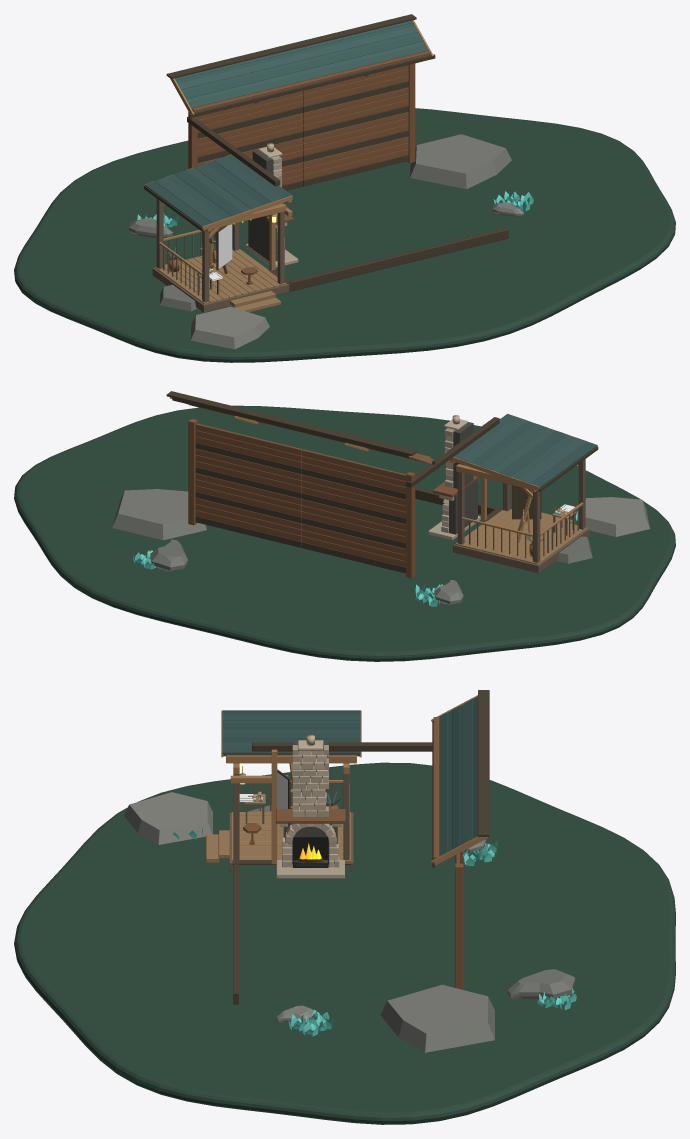
Rendered from midnight-cabin-world-7e.glb.
3 views of the same model, one above another, from view 1: azimuth 30°, elevation 25°; view 2: azimuth 150°, elevation 25°; view 3: azimuth 270°, elevation 25° (orthographic). The views are drawn at different scales.
Parts seen in each view (by area): view 1: ForestGround.015, BackWall.003, RoofShingles.002, PorchRoofShingles.002, RoofTrim.002, PorchBoards.002, FloorFascia.003, PorchPosts.002, LeftWallFrame.003, Fireplace.015, PorchRails.002, ArtEasel.015 (+5 smaller); view 2: ForestGround.015, BackWall.003, PorchRoofShingles.002, PorchBoards.002, RoofTrim.002, PorchPosts.002, Fireplace.015, PorchRails.002, LeftWallFrame.003, Chimney.002, PorchFascia.002, ArtEasel.015 (+3 smaller); view 3: ForestGround.015, RoofShingles.002, PorchRoofShingles.002, RoofTrim.002, Fireplace.015, Chimney.002, LeftWallFrame.003, PorchBoards.002, BackWall.003, PorchPosts.002, FloorFascia.003, PorchBeams.002 (+2 smaller).
Part boxes in pixels (x1,y1,x2,y2): ForestGround.015: (14,108,675,362); BackWall.003: (188,63,415,190); RoofShingles.002: (175,20,431,113); PorchRoofShingles.002: (145,154,291,227); RoofTrim.002: (166,14,435,118); PorchBoards.002: (155,249,286,304); FloorFascia.003: (268,228,508,293); PorchPosts.002: (156,198,284,302); LeftWallFrame.003: (187,117,292,270); Fireplace.015: (245,217,298,267); PorchRails.002: (159,224,232,298); ArtEasel.015: (200,224,232,273); ForestGround.015: (14,405,675,661); BackWall.003: (188,419,415,578); PorchRoofShingles.002: (454,414,597,487); PorchBoards.002: (455,509,587,564); RoofTrim.002: (166,391,435,464); PorchPosts.002: (457,459,585,562); Fireplace.015: (428,479,480,540); PorchRails.002: (461,502,583,559); LeftWallFrame.003: (406,417,499,521); Chimney.002: (444,415,473,488); PorchFascia.002: (453,528,589,573); ArtEasel.015: (512,485,541,542); ForestGround.015: (14,762,675,1124); RoofShingles.002: (433,696,477,859); PorchRoofShingles.002: (222,710,360,756); RoofTrim.002: (431,690,489,867); Fireplace.015: (276,823,344,878); Chimney.002: (292,734,328,816); LeftWallFrame.003: (230,742,432,864); PorchBoards.002: (232,812,350,864); BackWall.003: (455,851,463,989); PorchPosts.002: (233,774,349,859); FloorFascia.003: (232,860,271,1004); PorchBeams.002: (226,755,356,773).
Bounding box in the file's own units: 21.83 × 5.38 × 17.21.
